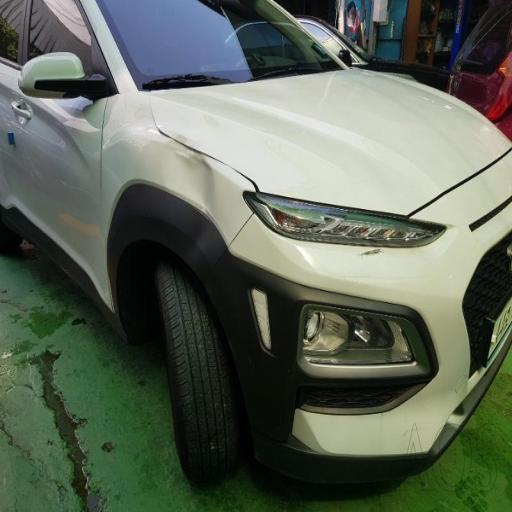dent: (86, 92, 286, 286)
